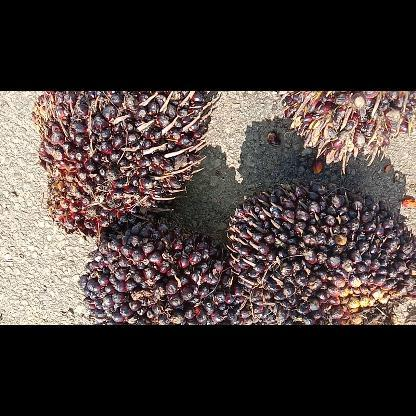TBS mentah: (227, 178, 415, 324), (31, 91, 213, 237), (78, 220, 276, 324), (276, 90, 414, 174)
